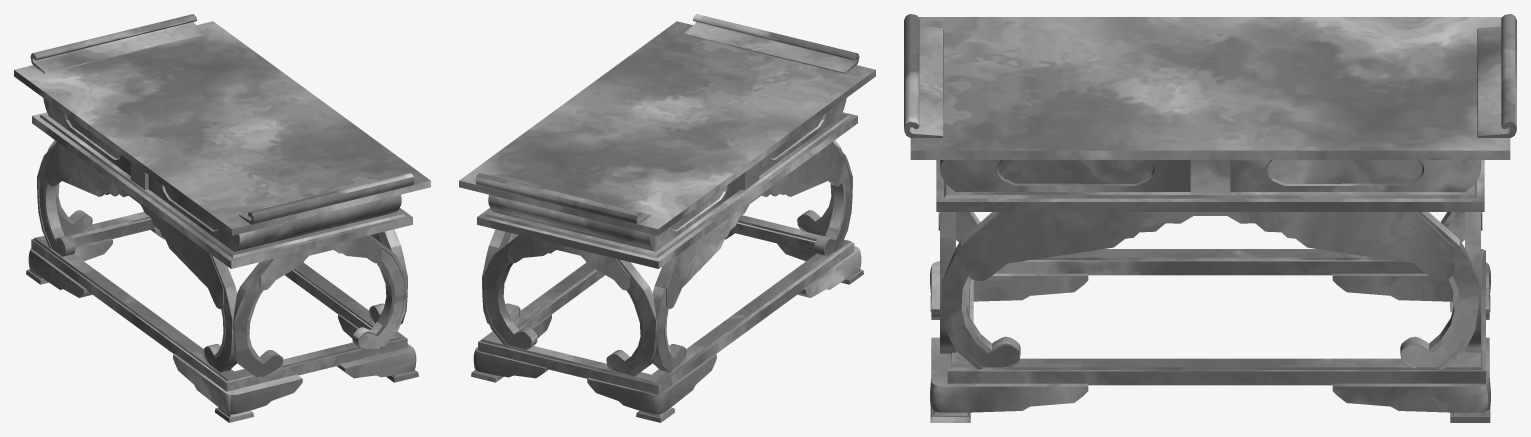
File: SM_Table_Cube_001.fbx
3 renders of one model, left to right at view 1: azimuth 30°, elevation 25°; view 2: azimuth 150°, elevation 25°; view 3: azimuth 270°, elevation 25°, orthographic. The views are drawn at different scales.
Visible parts, largest first — view 1: SM_Table_Cube_001; view 2: SM_Table_Cube_001; view 3: SM_Table_Cube_001.
Part boxes in pixels (x1,y1,x2,y2): SM_Table_Cube_001: (14,14,430,422); SM_Table_Cube_001: (459,14,875,422); SM_Table_Cube_001: (904,14,1516,422).
Bounding box in the file's own units: 64.95 × 126 × 65.99.
Materials: 1 (1 with a texture image).
